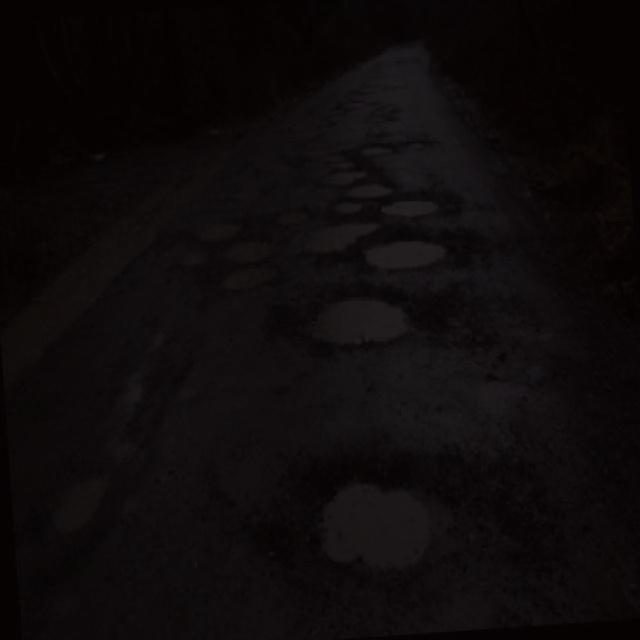Pothole: (285, 443, 475, 589), (288, 276, 436, 380), (55, 460, 125, 544), (352, 226, 454, 279), (226, 143, 303, 204), (300, 218, 386, 266), (212, 260, 296, 296), (221, 225, 285, 272), (385, 192, 457, 232), (345, 176, 401, 204), (176, 238, 218, 272), (369, 97, 409, 131), (190, 213, 235, 239), (357, 133, 398, 157), (396, 132, 438, 149)
